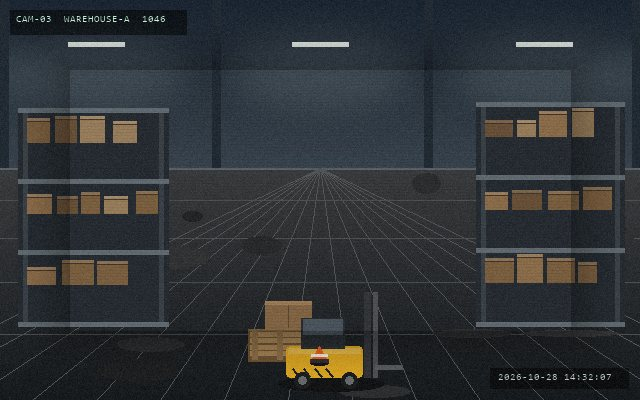cone: (309, 344, 329, 365)
forklift: (282, 290, 403, 391)
pallet: (246, 327, 335, 363)
shelf: (476, 102, 624, 322), (18, 108, 168, 322)
